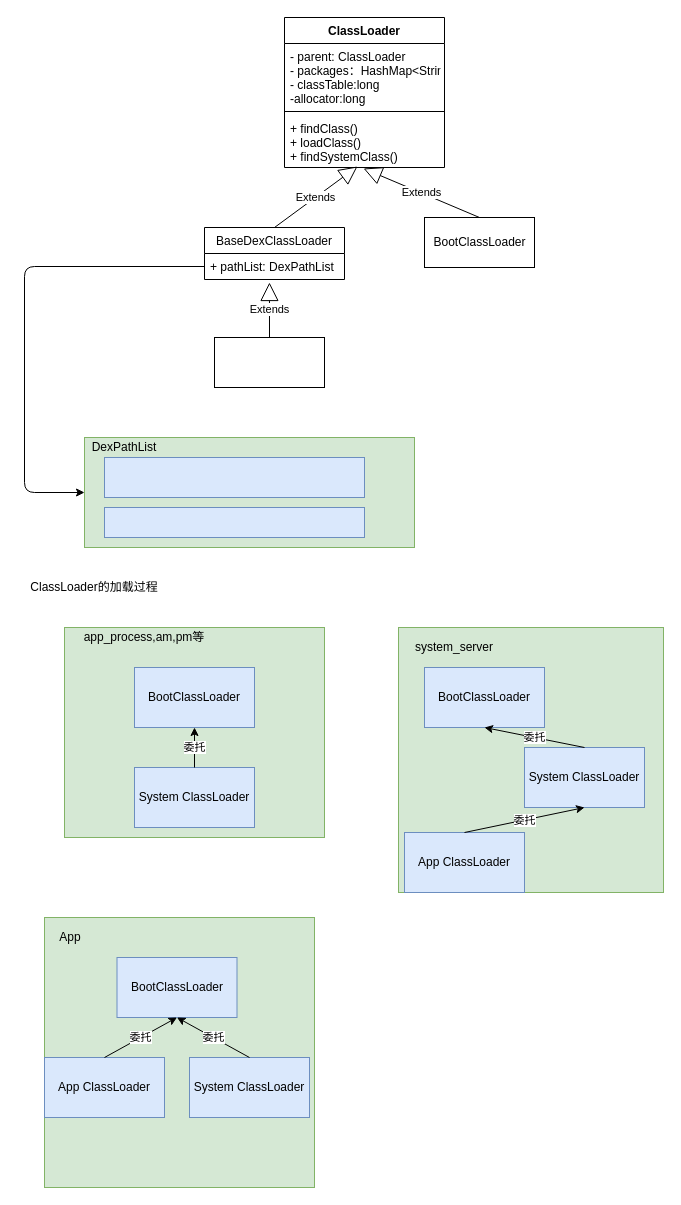
The diagram is 681 pixels wide and 1205 high, and some of its shapes have lost their labels. The centre of each missing label's shape, as x and y in pixels:
"dexElements:Element[](关联了不同的dex文件或者jar包，能通过findClass通过关联找到)" goes at (x=234, y=477).
"nativeLibraryDirectories:List<File>（需要从哪些目录查找so库）" goes at (x=234, y=522).
"PathClassLoader" goes at (x=269, y=362).
